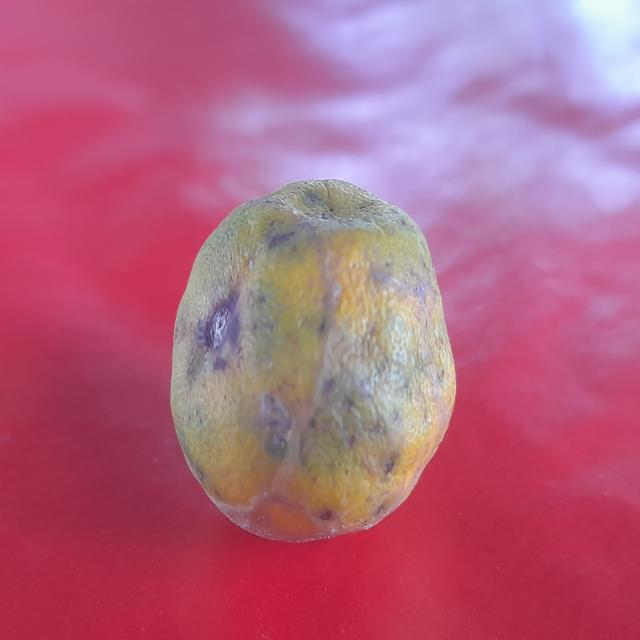black spot: (164, 152, 460, 561)
